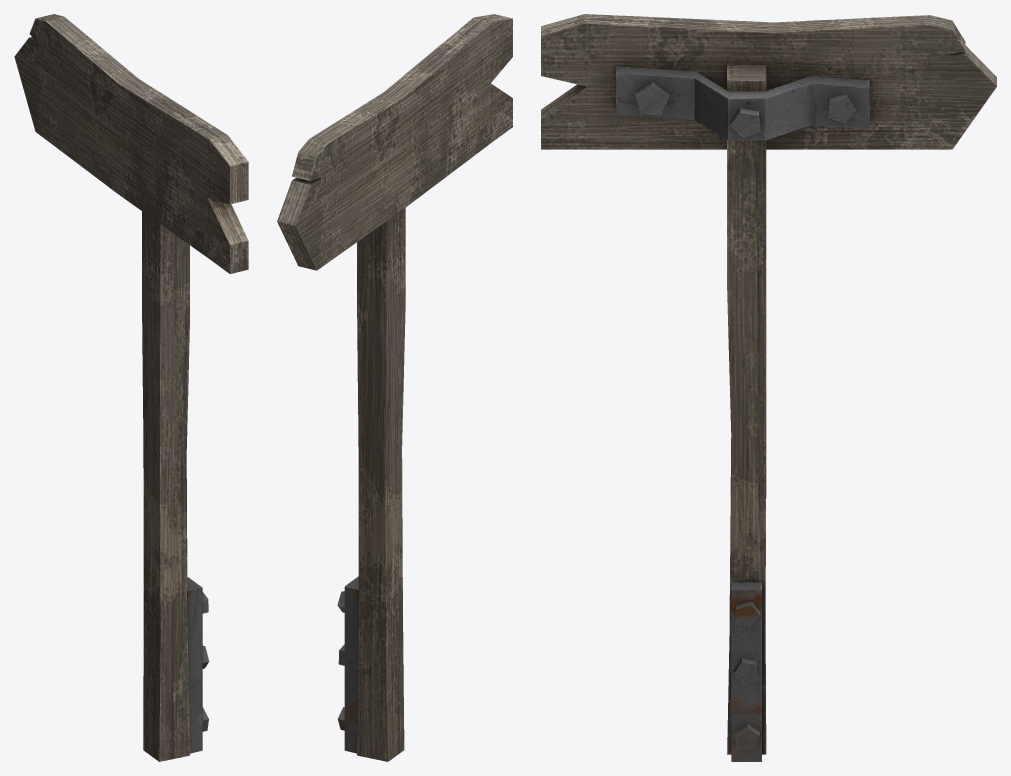
Rendered from arrow_sign_mirror.glb.
The picture shows the model from 3 angles, left to right: view 1: azimuth 30°, elevation 25°; view 2: azimuth 150°, elevation 25°; view 3: azimuth 270°, elevation 25°; orthographic projection. The views are drawn at different scales.
Parts seen in each view (by area): view 1: Renderer; view 2: Renderer; view 3: Renderer.
Part boxes in pixels (box(x1,y1,x2,y2)): Renderer: box(14, 14, 248, 761); Renderer: box(277, 14, 512, 761); Renderer: box(541, 14, 996, 761).
Bounding box in the file's own units: 0.1703 × 1.51 × 0.8702.
Materials: 1 (1 with a texture image).
